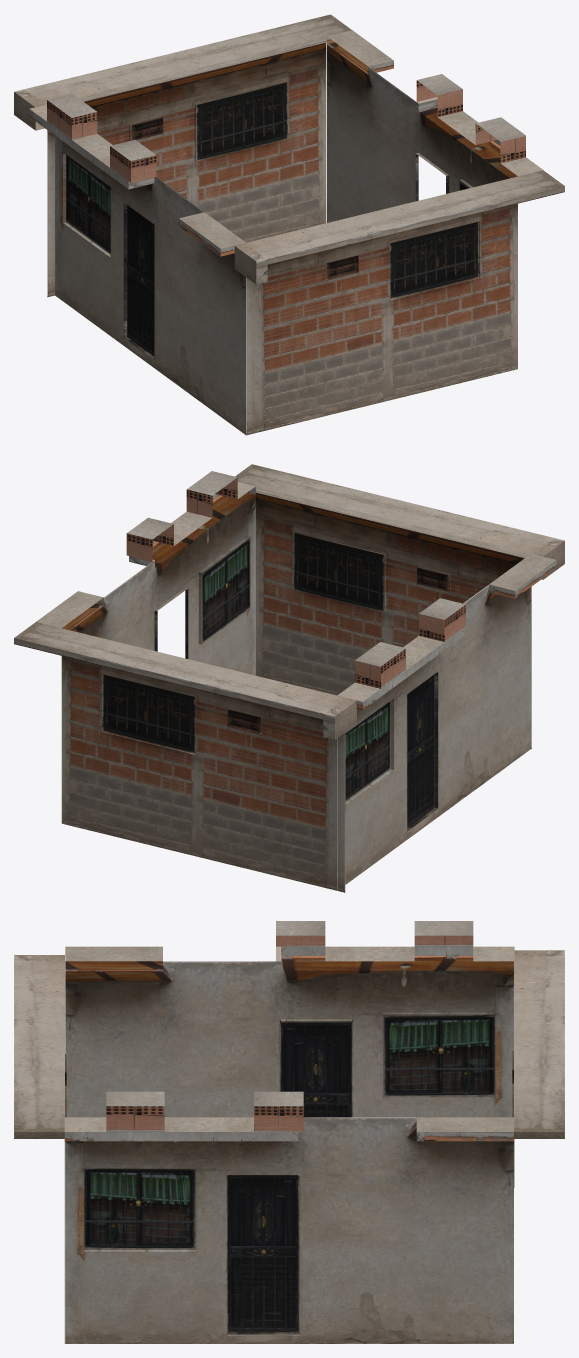
File: casa_derecha_15.fbx
3 renders of one model, top to bottom at view 1: azimuth 30°, elevation 25°; view 2: azimuth 150°, elevation 25°; view 3: azimuth 270°, elevation 25°, orthographic. The views are drawn at different scales.
Parts seen in each view (by area): view 1: casa_derecha_14B.001, casa_derecha_14B, casa_derecha_14A.001, casa_derecha_14A; view 2: casa_derecha_14B, casa_derecha_14B.001, casa_derecha_14A.001, casa_derecha_14A; view 3: casa_derecha_14A, casa_derecha_14A.001, casa_derecha_14B, casa_derecha_14B.001.
Part boxes in pixels (<box>): casa_derecha_14B.001: <box>234,170,564,435</box>; casa_derecha_14B: <box>14,14,351,297</box>; casa_derecha_14A.001: <box>29,93,245,434</box>; casa_derecha_14A: <box>327,30,543,222</box>; casa_derecha_14B: <box>14,622,356,892</box>; casa_derecha_14B.001: <box>235,464,564,748</box>; casa_derecha_14A.001: <box>337,554,556,890</box>; casa_derecha_14A: <box>36,471,255,823</box>; casa_derecha_14A: <box>64,1091,513,1343</box>; casa_derecha_14A.001: <box>65,921,514,1187</box>; casa_derecha_14B: <box>512,950,564,1138</box>; casa_derecha_14B.001: <box>14,955,66,1138</box>.
Bounding box in the file's own units: 772 × 490 × 971.
